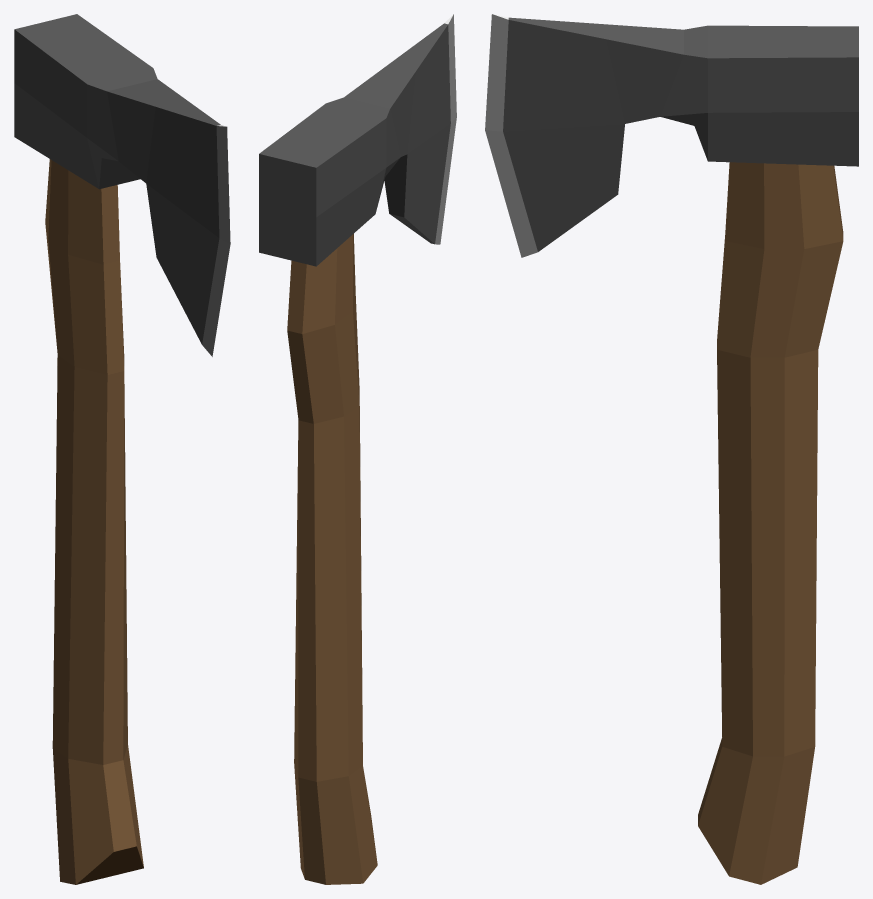
Rendered from axe_3.fbx.
3 renders of one model, left to right at view 1: azimuth 30°, elevation 25°; view 2: azimuth 150°, elevation 25°; view 3: azimuth 270°, elevation 25°, orthographic. The views are drawn at different scales.
Parts seen in each view (by area): view 1: axe_3; view 2: axe_3; view 3: axe_3.
Part boxes in pixels (box(x1,y1,x2,y2)): axe_3: box(14, 14, 230, 884); axe_3: box(259, 14, 456, 884); axe_3: box(485, 14, 858, 884).
Size of the model in its own units: 6.55 by 77.48 by 30.74.
Materials: 1 (1 with a texture image).
